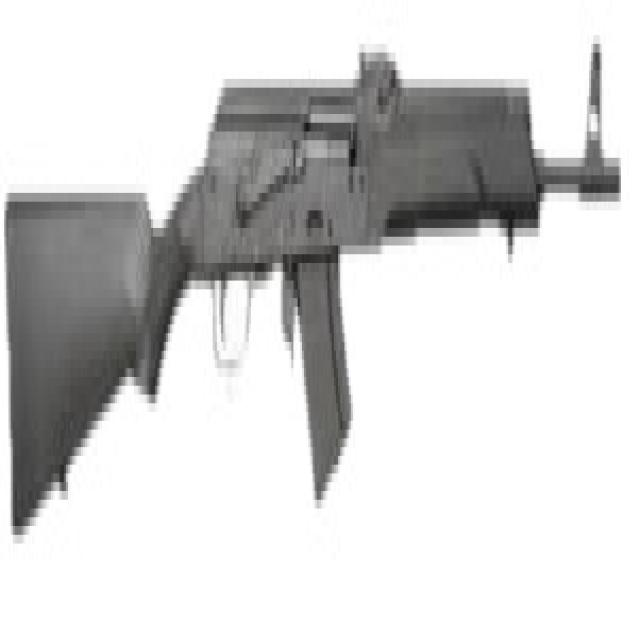rifle: (3, 19, 632, 567)
